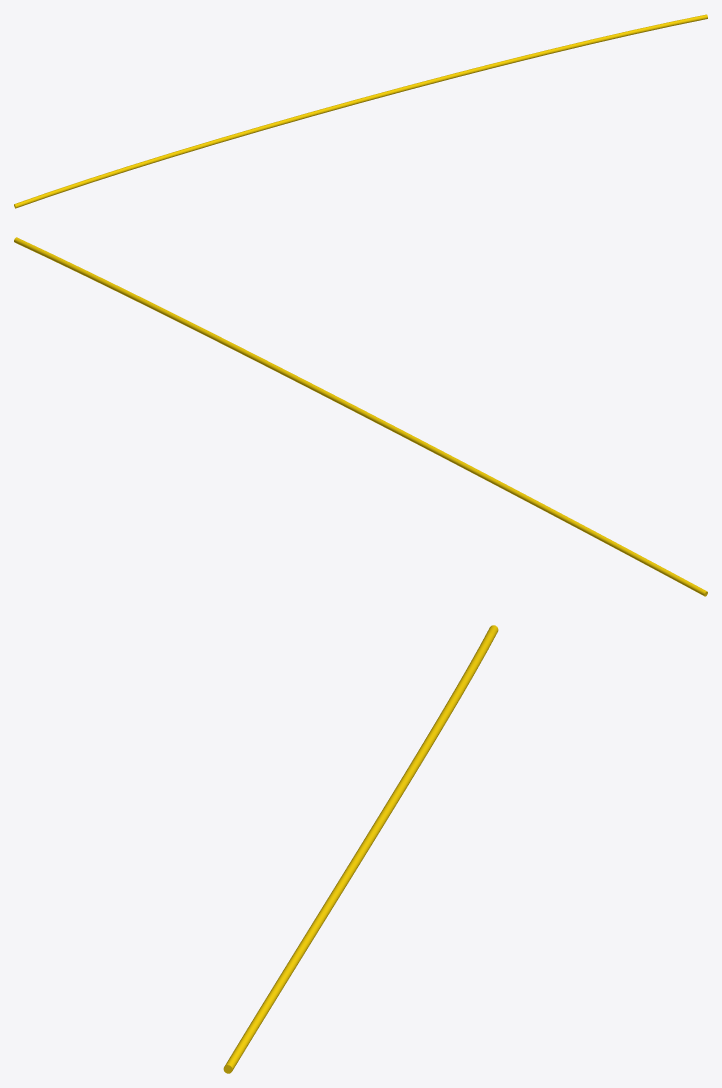
Rendered from Event_421364160_track_20.fbx.
The picture shows the model from 3 angles, top to bottom: view 1: azimuth 30°, elevation 25°; view 2: azimuth 150°, elevation 25°; view 3: azimuth 270°, elevation 25°; orthographic projection. The views are drawn at different scales.
Parts seen in each view (by area): view 1: Model; view 2: Model; view 3: Model.
Part boxes in pixels (x1,y1,x2,y2): Model: (14,14,707,208); Model: (14,237,707,596); Model: (223,625,498,1073).
Size of the model in its own units: 6.27 by 0.8577 by 1.19.
